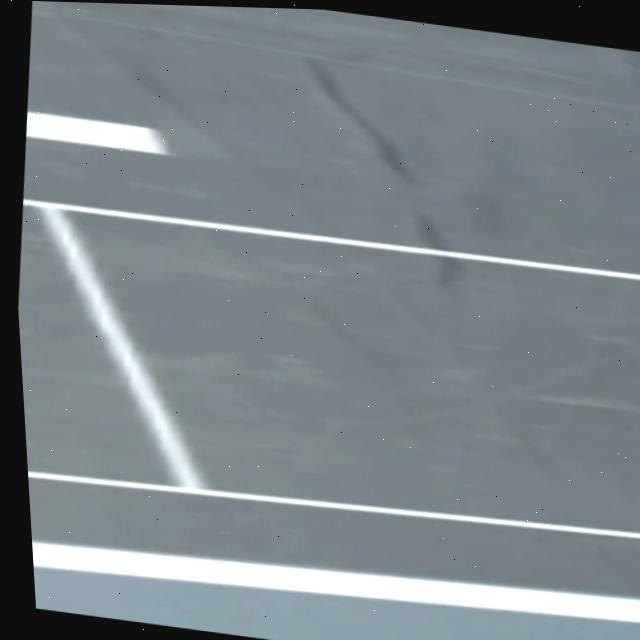center: (26, 110, 170, 153)
left: (32, 541, 640, 623)
